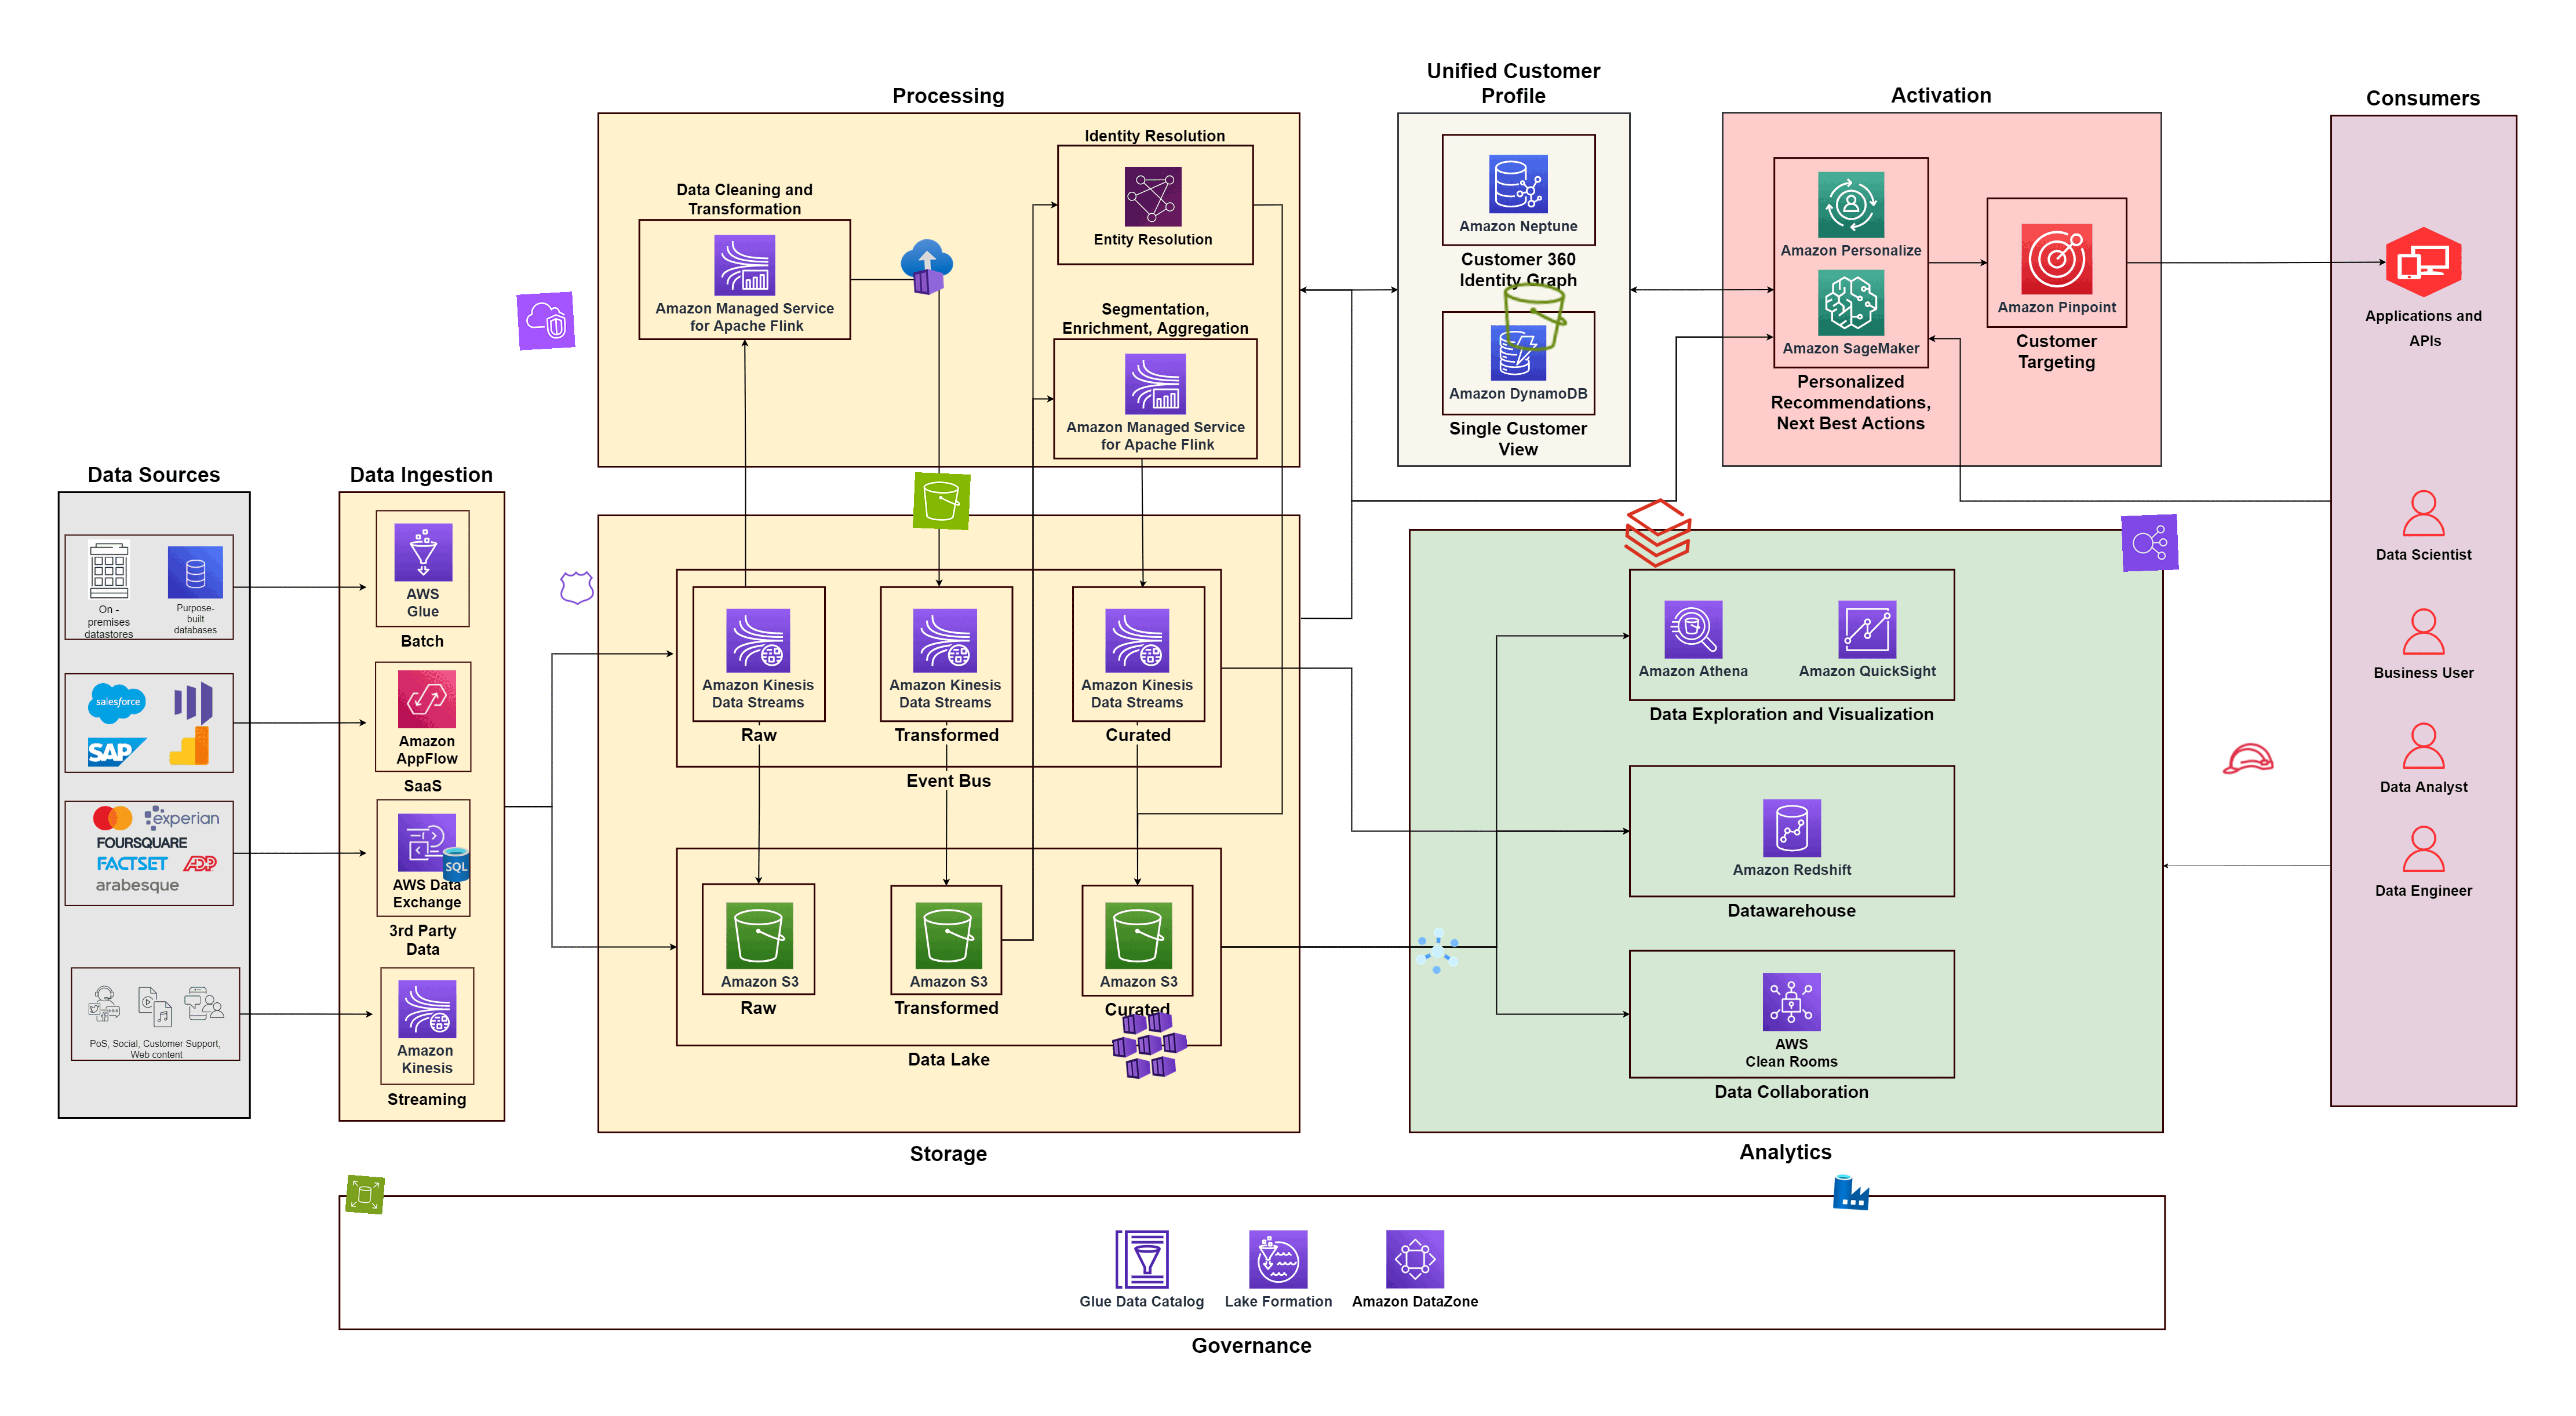aws_amazon_elastic_block_store: (345, 1174, 385, 1215)
aws_amazon_simple_storage_service: (912, 471, 971, 530)
aws_amazon_virtual_private_cloud: (516, 291, 576, 351)
aws_elastic_load_balancing: (2121, 514, 2178, 572)
aws_identity_access_management_role: (2217, 729, 2278, 788)
aws_route_53_hosted_zone: (558, 568, 596, 609)
aws_simple_storage_service_bucket: (1495, 277, 1575, 357)
azure_container_instances: (898, 237, 957, 296)
azure_data_factories: (1831, 1172, 1871, 1212)
azure_databricks: (1619, 494, 1699, 574)
azure_kubernetes_services: (1109, 1004, 1191, 1085)
azure_sql_database: (438, 846, 474, 884)
gcp_pubsub: (1407, 921, 1467, 980)
